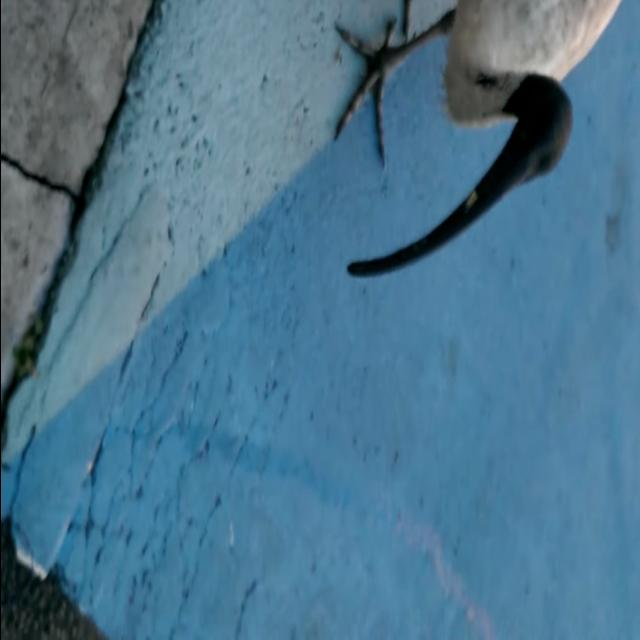Birds-Ibis: (324, 0, 640, 287)
